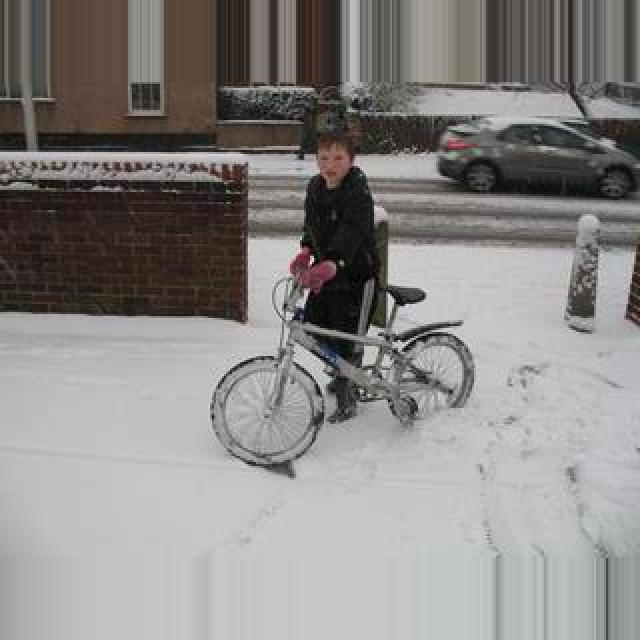Bus-Bike: (440, 118, 638, 196)
MC-Bike: (288, 130, 382, 412)
Person: (216, 270, 478, 474)
